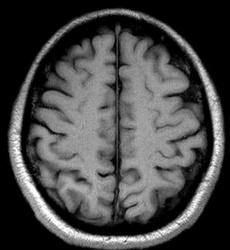Normal_Brain: (3, 4, 230, 250), (1, 6, 9, 7)
